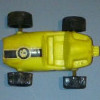amarillo: (3, 14, 98, 87)
